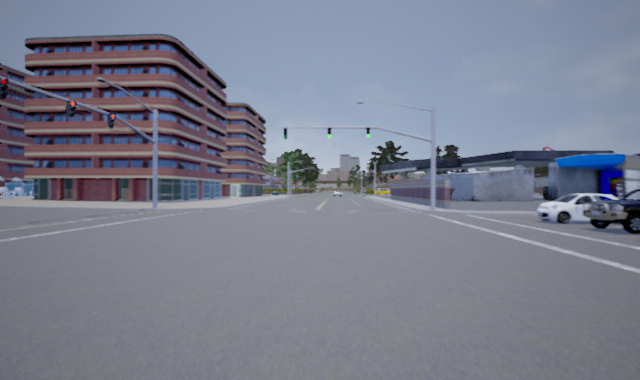traffic_light: (65, 100, 77, 118), (107, 109, 116, 128), (1, 77, 8, 101), (326, 125, 333, 140), (364, 125, 371, 138), (282, 125, 287, 141)
vehicle: (536, 193, 630, 224), (586, 185, 639, 234)
